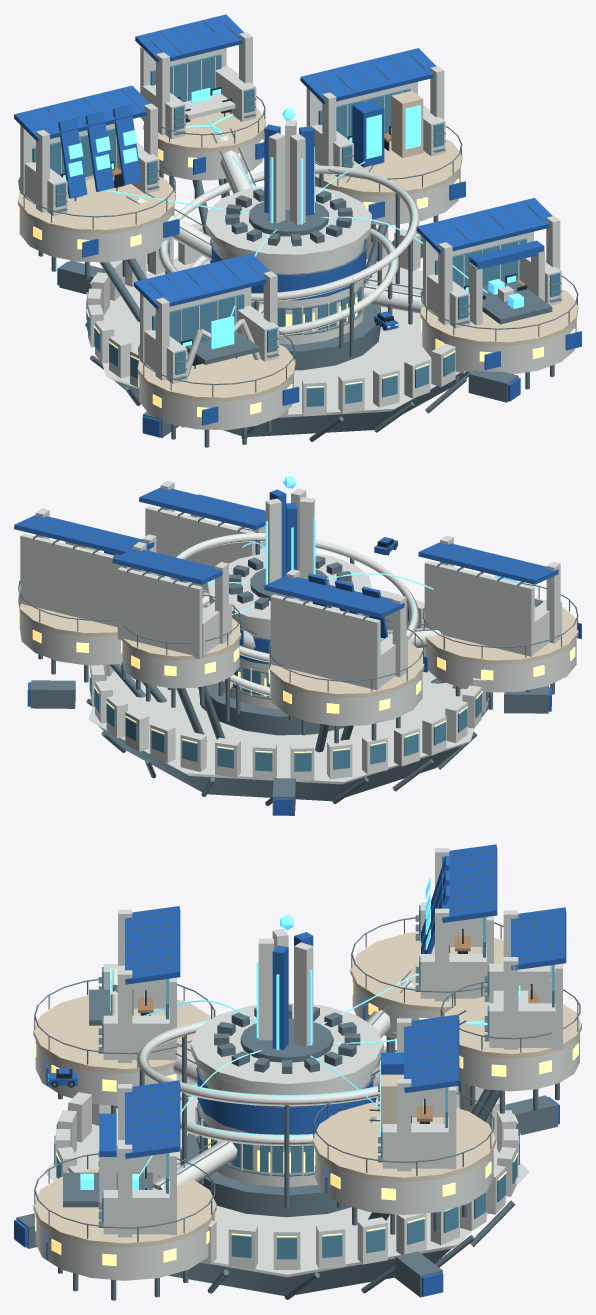
File: bytedance-low.glb
3 renders of one model, top to bottom at view 1: azimuth 30°, elevation 25°; view 2: azimuth 150°, elevation 25°; view 3: azimuth 270°, elevation 25°, orthographic. The views are drawn at different scales.
Parts seen in each view (by area): view 1: porcelain, hub_cobalt, steel, ivory, hub_glass, blue_lamps, routing_blade (×4), warm_lamps, dispatch_base, graphite; view 2: porcelain, steel, hub_cobalt, ivory, hub_glass, routing_blade (×4), warm_lamps, dispatch_base, blue_lamps; view 3: porcelain, steel, ivory, hub_cobalt, hub_glass, routing_blade (×3), warm_lamps, blue_lamps, dispatch_base, wood.
Boxes of the visible parts, x1,y1,x2,y2 form: porcelain: [19, 32, 576, 430]; hub_cobalt: [14, 14, 581, 437]; steel: [18, 17, 578, 447]; ivory: [18, 90, 578, 401]; hub_glass: [32, 54, 560, 406]; blue_lamps: [63, 88, 523, 349]; routing_blade (×4): [268, 120, 314, 224]; warm_lamps: [18, 139, 575, 417]; dispatch_base: [249, 202, 328, 236]; graphite: [61, 86, 527, 365]; porcelain: [19, 481, 576, 784]; steel: [18, 489, 578, 815]; hub_cobalt: [14, 487, 581, 815]; ivory: [18, 541, 578, 697]; hub_glass: [89, 665, 489, 771]; routing_blade (×4): [265, 489, 314, 583]; warm_lamps: [18, 608, 575, 752]; dispatch_base: [250, 568, 329, 600]; blue_lamps: [165, 542, 517, 641]; porcelain: [35, 848, 579, 1280]; steel: [16, 850, 580, 1300]; ivory: [33, 932, 581, 1247]; hub_cobalt: [14, 844, 566, 1296]; hub_glass: [54, 905, 554, 1259]; routing_blade (×3): [258, 938, 313, 1049]; warm_lamps: [35, 978, 578, 1266]; blue_lamps: [80, 878, 530, 1189]; dispatch_base: [240, 1018, 333, 1062]; wood: [138, 936, 539, 1187].
Size of the model in its own units: 16.42 by 9.57 by 16.48.
